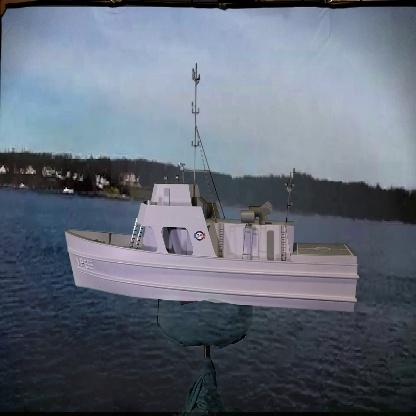YP689: (64, 64, 361, 313)
